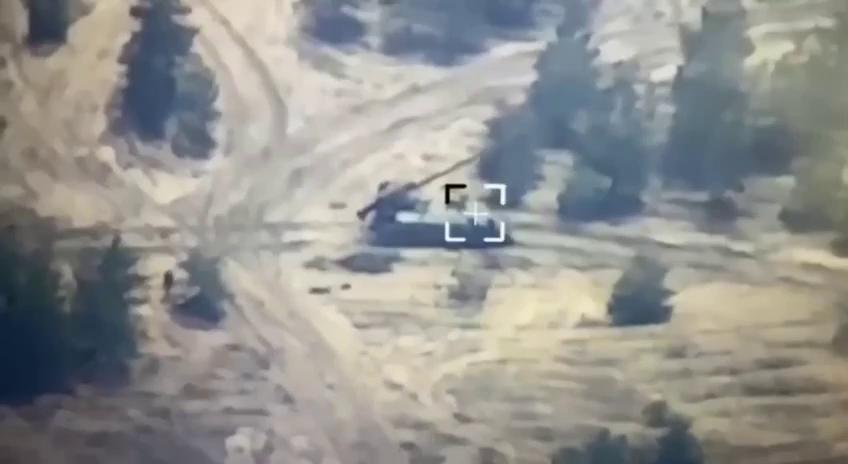tank: (356, 148, 513, 251)
